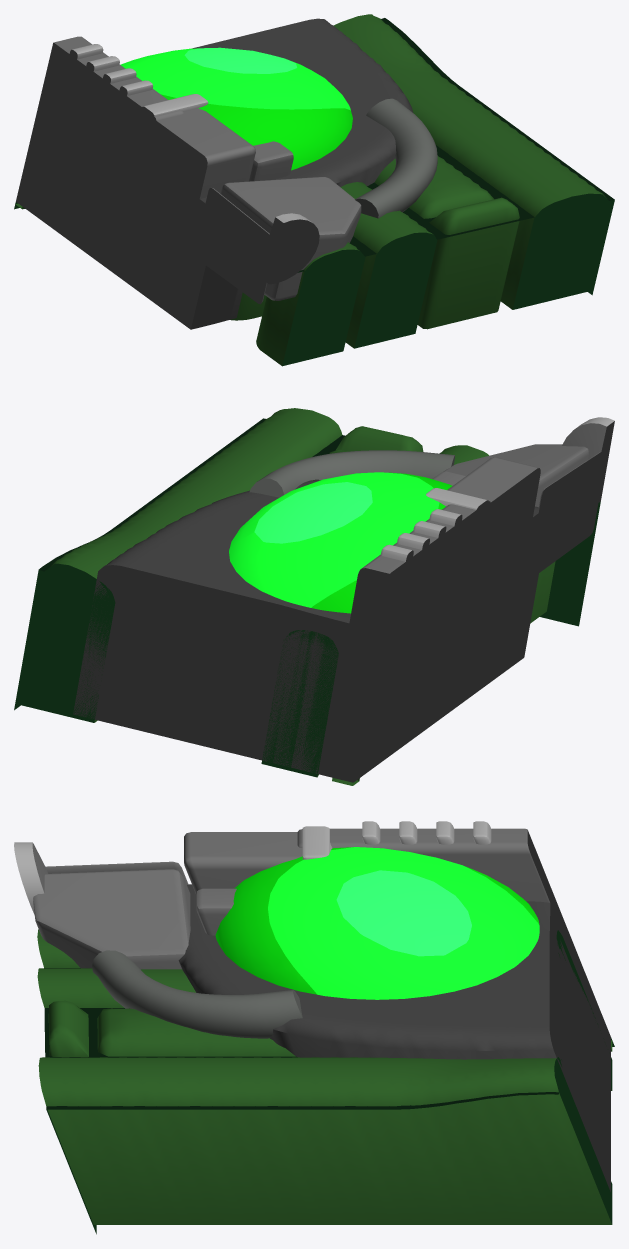
File: green_shell_277.glb
3 renders of one model, top to bottom at view 1: azimuth 30°, elevation 25°; view 2: azimuth 150°, elevation 25°; view 3: azimuth 270°, elevation 25°, orthographic. The views are drawn at different scales.
Parts seen in each view (by area): view 1: green_shell_277; view 2: green_shell_277; view 3: green_shell_277.
Boxes of the visible parts, x1,y1,x2,y2 form: green_shell_277: [14, 14, 614, 366]; green_shell_277: [14, 408, 614, 785]; green_shell_277: [14, 821, 614, 1234].
Bounding box in the file's own units: 24 × 13.45 × 32.46.
